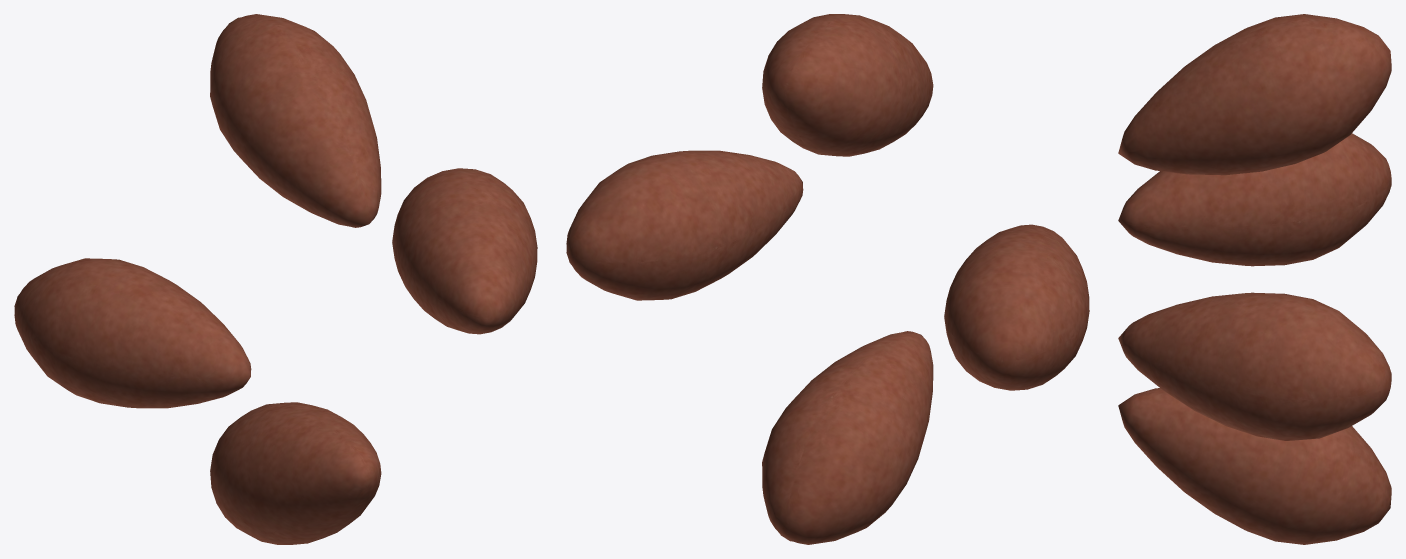
File: AppleSeed.obj
3 views of the same model, side by side, from view 1: azimuth 30°, elevation 25°; view 2: azimuth 150°, elevation 25°; view 3: azimuth 270°, elevation 25° (orthographic).
Visible parts, largest first — view 1: AppleSeed; view 2: AppleSeed; view 3: AppleSeed.
Boxes of the visible parts, bbox=[...] form: AppleSeed: bbox=[14, 14, 537, 544]; AppleSeed: bbox=[566, 14, 1089, 544]; AppleSeed: bbox=[1118, 14, 1391, 544].
Size of the model in its own units: 0.0154 by 0.0154 by 0.00737.
Materials: 1 (1 with a texture image).
